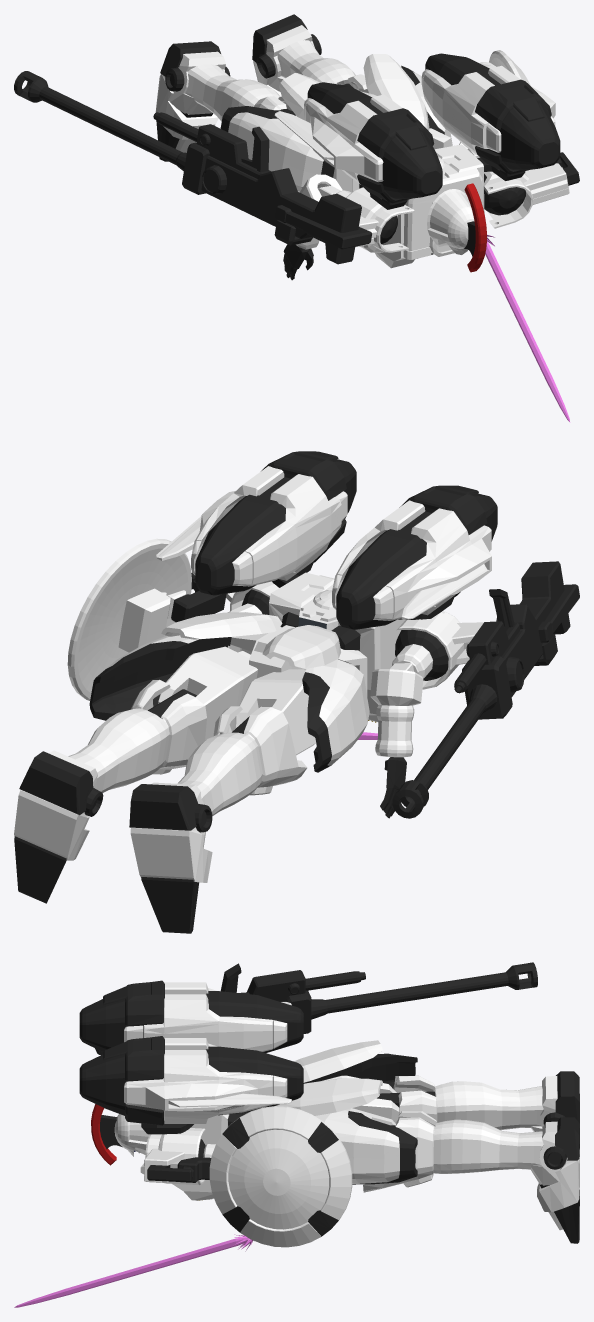
The picture shows the model from 3 angles, top to bottom: view 1: azimuth 30°, elevation 25°; view 2: azimuth 150°, elevation 25°; view 3: azimuth 270°, elevation 25°; orthographic projection. The views are drawn at different scales.
Parts seen in each view (by area): view 1: gundam wing tallgeese i; view 2: gundam wing tallgeese i; view 3: gundam wing tallgeese i.
Part boxes in pixels (x1,y1,x2,y2): gundam wing tallgeese i: (14, 14, 579, 422); gundam wing tallgeese i: (14, 451, 579, 933); gundam wing tallgeese i: (14, 962, 579, 1307).
Bounding box in the file's own units: 608 × 409 × 776.
